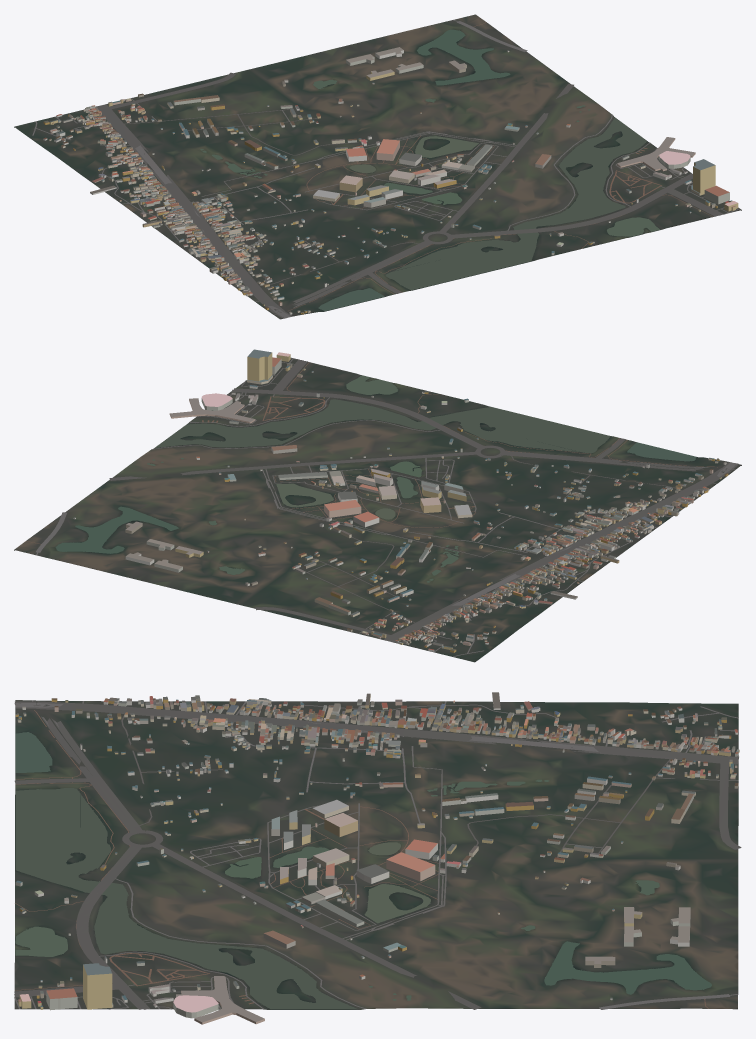
The picture shows the model from 3 angles, top to bottom: view 1: azimuth 30°, elevation 25°; view 2: azimuth 150°, elevation 25°; view 3: azimuth 270°, elevation 25°; orthographic projection. The views are drawn at different scales.
Visible parts, largest first — view 1: ground, buildings, water, roads; view 2: ground, buildings, water, roads; view 3: ground, buildings, water, roads.
Part boxes in pixels (x1,y1,x2,y2): ground: [14, 14, 741, 319]; buildings: [43, 47, 738, 314]; water: [200, 29, 659, 310]; roads: [32, 19, 739, 318]; ground: [14, 357, 741, 662]; buildings: [73, 349, 728, 652]; water: [55, 375, 696, 582]; roads: [25, 358, 738, 656]; ground: [14, 700, 738, 1009]; buildings: [15, 692, 739, 1024]; water: [15, 732, 711, 1009]; roads: [14, 700, 741, 1009].
Size of the model in its own units: 1505 by 77.24 by 1411.
